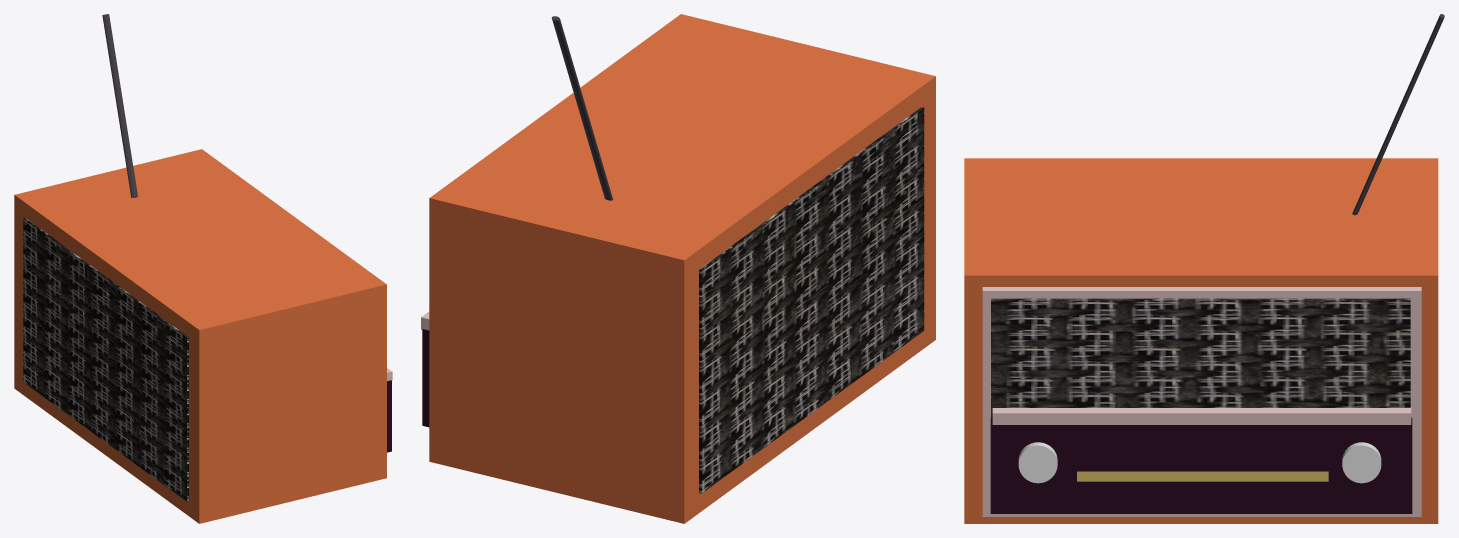
Rendered from Rádio Menoari.fbx.
The picture shows the model from 3 angles, left to right: view 1: azimuth 30°, elevation 25°; view 2: azimuth 150°, elevation 25°; view 3: azimuth 270°, elevation 25°; orthographic projection. The views are drawn at different scales.
Visible parts, largest first — view 1: Cubo, Cubo.002, Cilindro.002; view 2: Cubo, Cubo.002, Cilindro.002, Cubo.003; view 3: Cubo, Cubo.002, Cubo.003, Cubo.001, Cubo.004, Cubo.005, Cilindro, Cilindro.001, Cilindro.002.
Part boxes in pixels (left/top/right/bottom): Cubo: left=14, top=149, right=386, bottom=523; Cubo.002: left=23, top=217, right=188, bottom=501; Cilindro.002: left=102, top=14, right=137, bottom=197; Cubo: left=429, top=14, right=935, bottom=523; Cubo.002: left=699, top=107, right=924, bottom=493; Cilindro.002: left=551, top=16, right=613, bottom=200; Cubo.003: left=422, top=329, right=429, bottom=427; Cubo: left=964, top=158, right=1438, bottom=523; Cubo.002: left=991, top=298, right=1410, bottom=418; Cubo.003: left=990, top=417, right=1412, bottom=513; Cubo.001: left=982, top=287, right=1421, bottom=516; Cubo.004: left=992, top=407, right=1411, bottom=424; Cubo.005: left=1077, top=471, right=1328, bottom=481; Cilindro: left=1018, top=442, right=1057, bottom=483; Cilindro.001: left=1342, top=442, right=1381, bottom=483; Cilindro.002: left=1352, top=14, right=1444, bottom=215.
Size of the model in its own units: 216 by 340 by 329.
